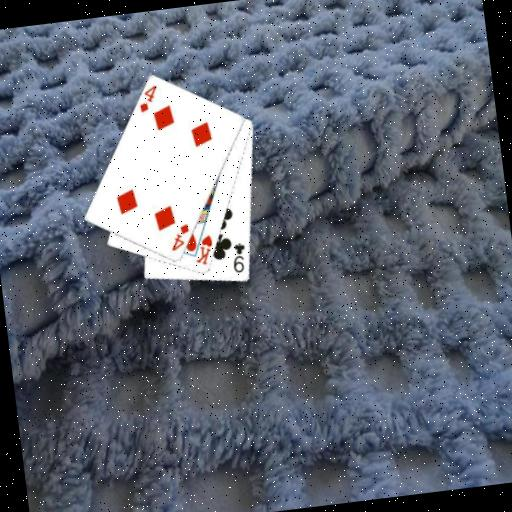4D: (166, 220, 193, 253), (134, 82, 161, 115)
9C: (228, 239, 250, 276)
KH: (190, 231, 217, 268)
